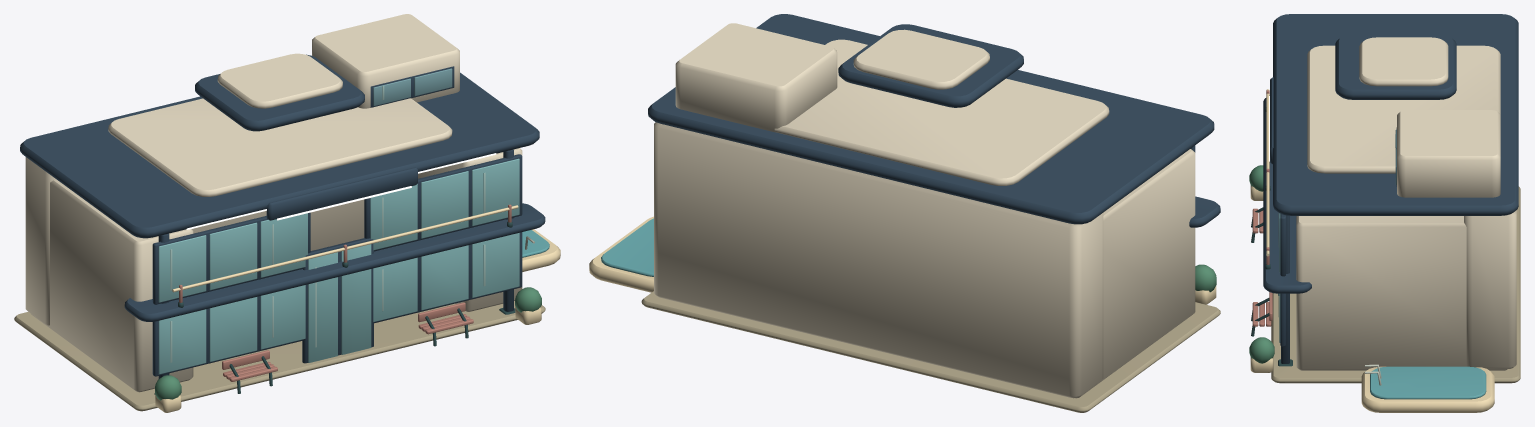
The model's file is luxury_motel.glb.
3 views of the same model, side by side, from view 1: azimuth 30°, elevation 25°; view 2: azimuth 150°, elevation 25°; view 3: azimuth 270°, elevation 25° (orthographic). The views are drawn at different scales.
Parts seen in each view (by area): view 1: LuxuryMotel; view 2: LuxuryMotel; view 3: LuxuryMotel.
Part boxes in pixels (bbox=[...]): LuxuryMotel: bbox=[14, 14, 560, 412]; LuxuryMotel: bbox=[589, 14, 1220, 412]; LuxuryMotel: bbox=[1249, 14, 1520, 412].
Size of the model in its own units: 14.7 by 6.94 by 7.42.
